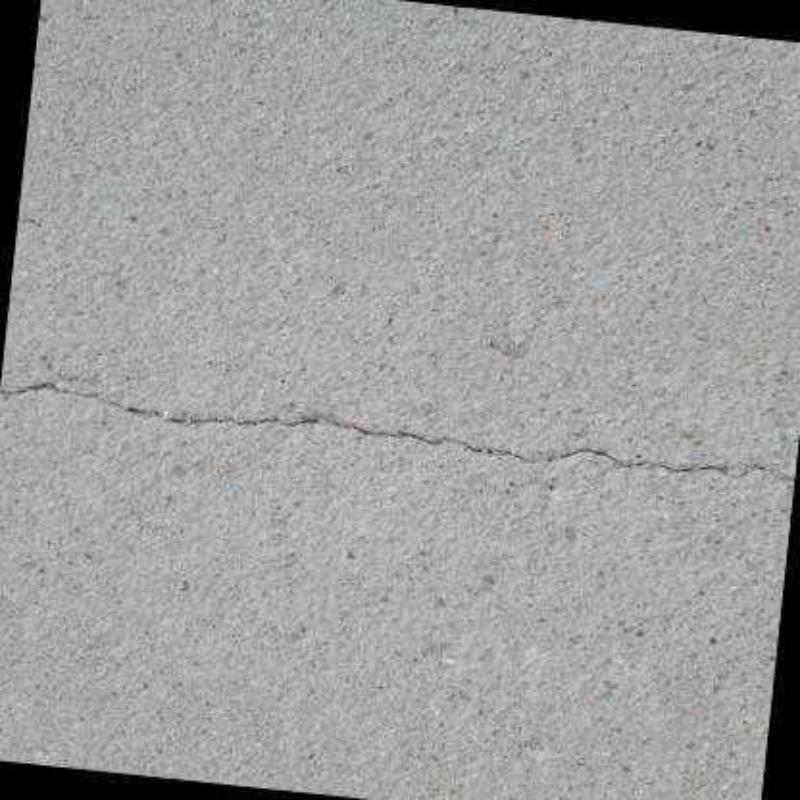pothole: (0, 382, 794, 479)
